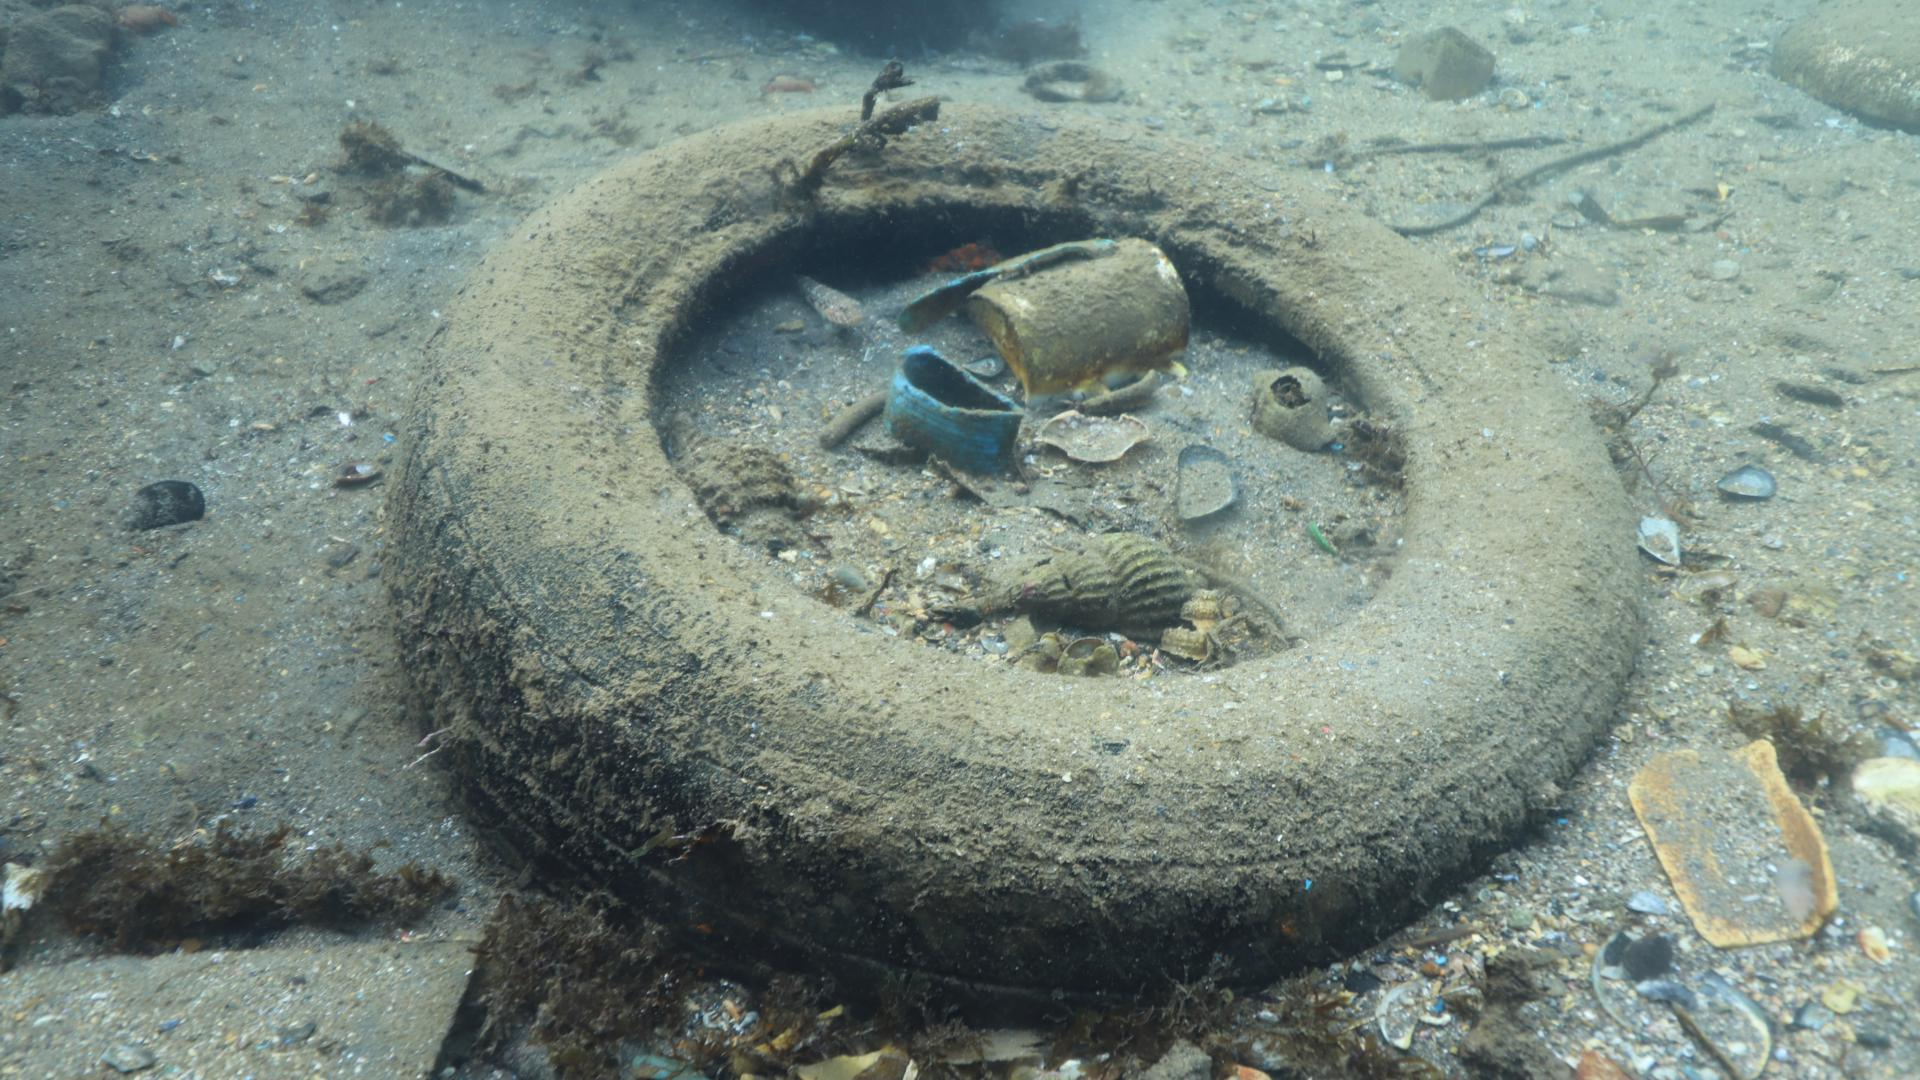tire: (380, 96, 1639, 1029)
